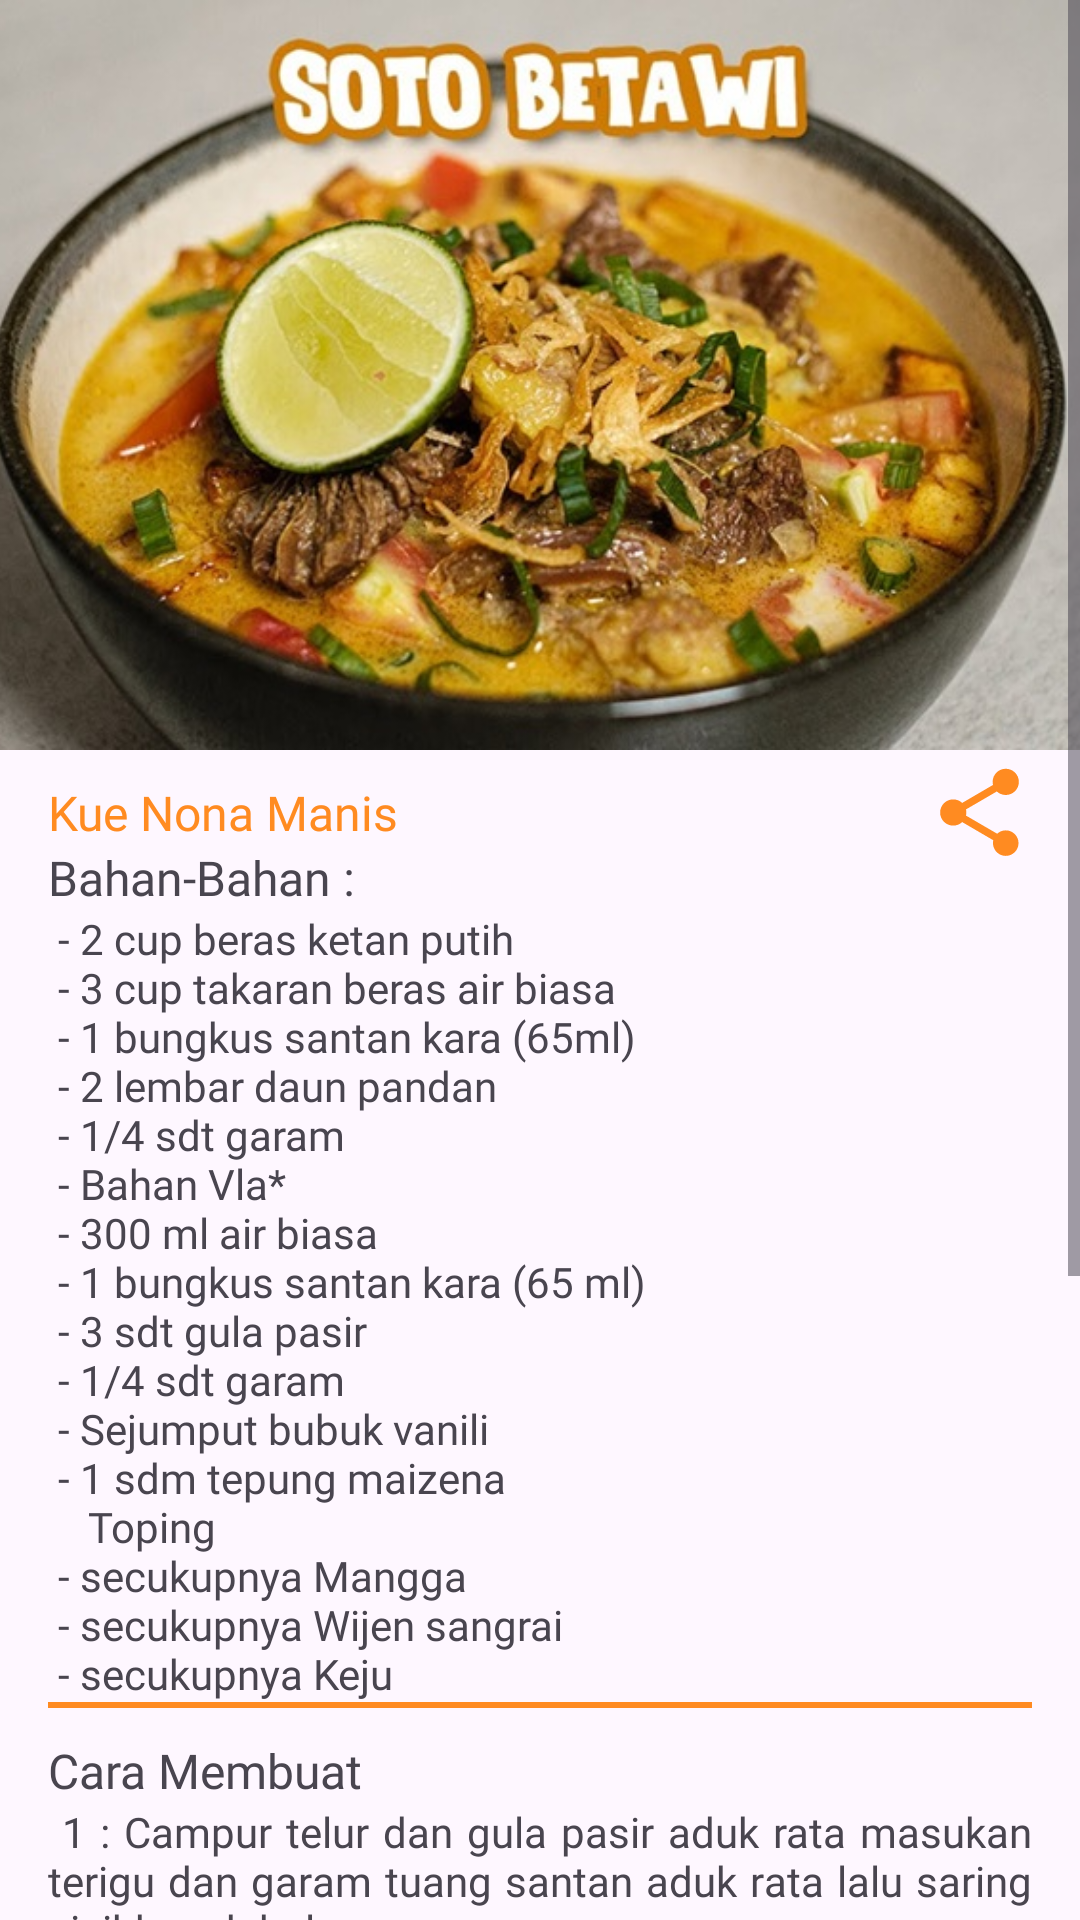

Where icons sit on this 1080 x 1920 app screen, as (x1, y1, x2, y2):
share: (940, 768, 1019, 856)
